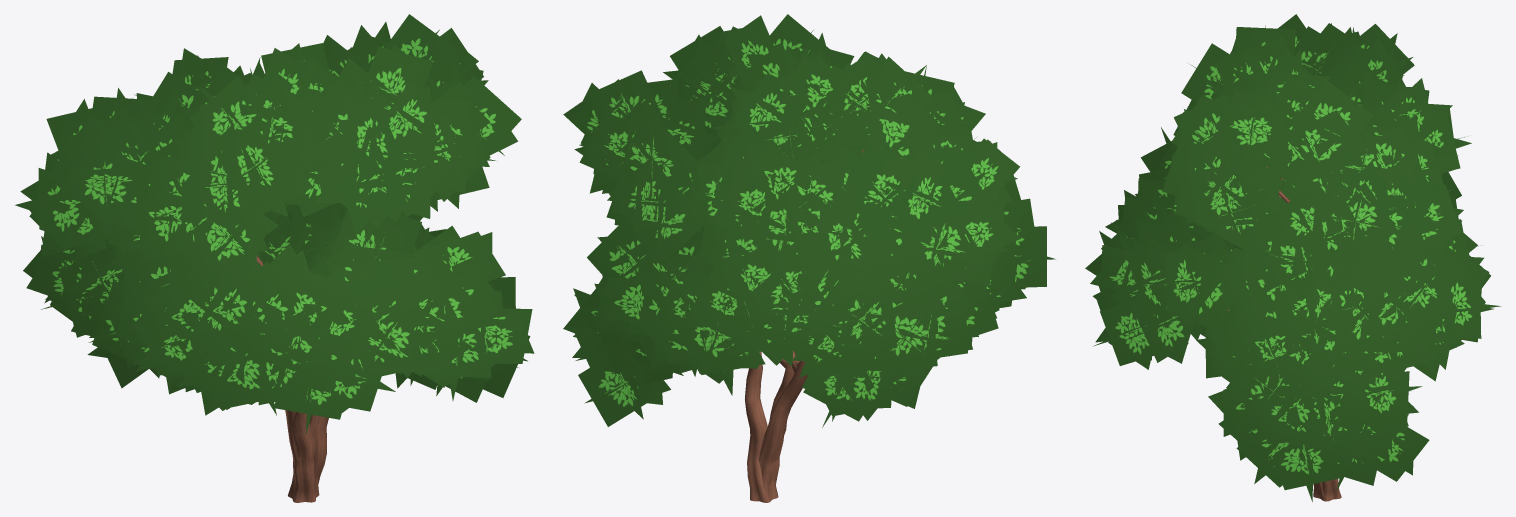
Rendered from Tree_05.glb.
The picture shows the model from 3 angles, left to right: view 1: azimuth 30°, elevation 25°; view 2: azimuth 150°, elevation 25°; view 3: azimuth 270°, elevation 25°; orthographic projection. The views are drawn at different scales.
Visible parts, largest first — view 1: Tree_05; view 2: Tree_05; view 3: Tree_05.
Part boxes in pixels (<box>): Tree_05: <box>15,14,534,502</box>; Tree_05: <box>563,14,1055,502</box>; Tree_05: <box>1085,14,1501,501</box>.
Size of the model in its own units: 6.67 by 6.26 by 5.54.
2 materials, 2 textured.
